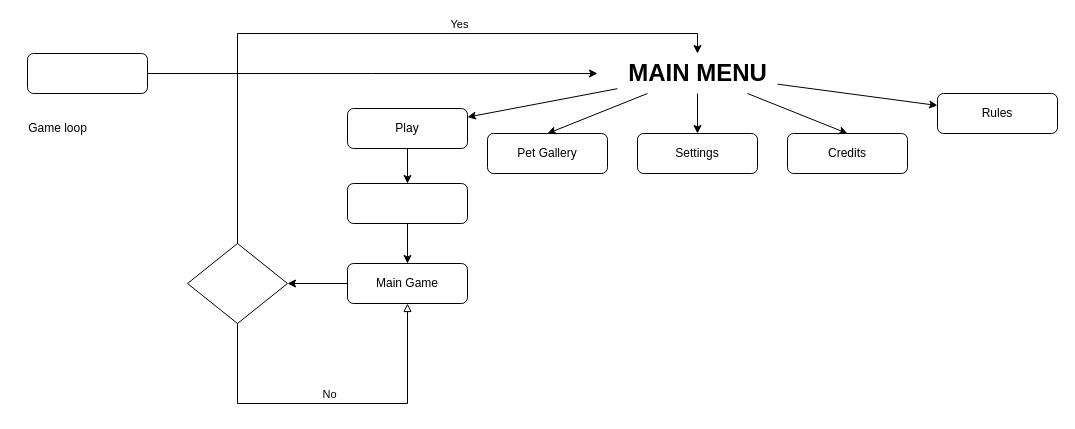
Some shapes in this 1075 by 429 pixel diagram are drawn without their labels. The shapes that lost their labels are listed below. From the top down, each one's box as (x1, y1, x2, y2) in pixels, then its label:
(26, 52, 148, 94): Start Game
(346, 182, 468, 224): Pet Creation
(186, 242, 288, 324): Pet died?
